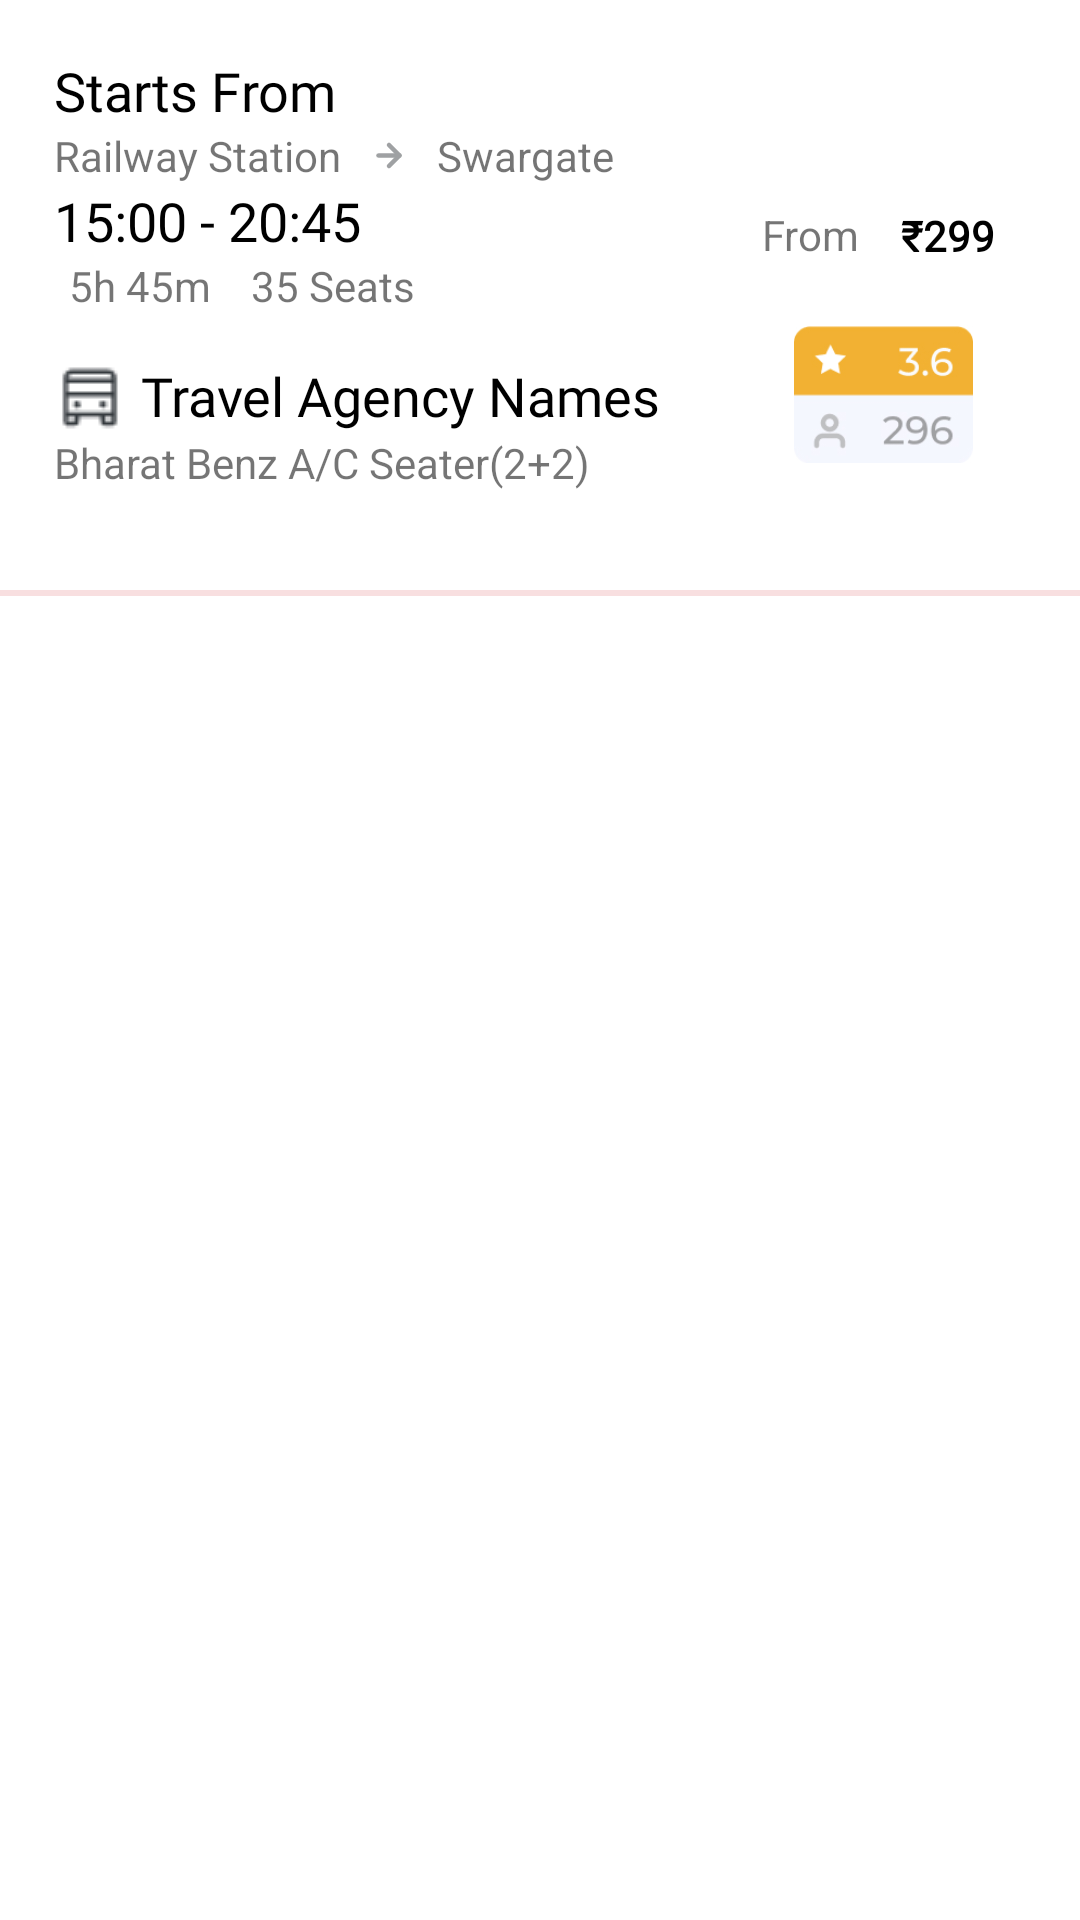

Icons on this 1080 × 1920 Android screen, each with its box as [x1, y1, x2, y2]:
forward arrow: [376, 143, 402, 168]
